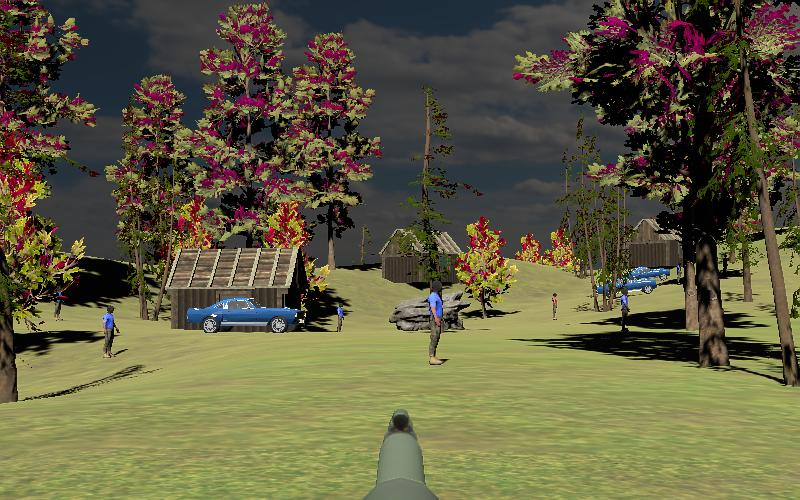Human: (428, 280, 446, 366), (428, 280, 446, 365), (102, 305, 120, 359), (335, 303, 347, 335)
car: (184, 295, 307, 335), (594, 270, 657, 299)
